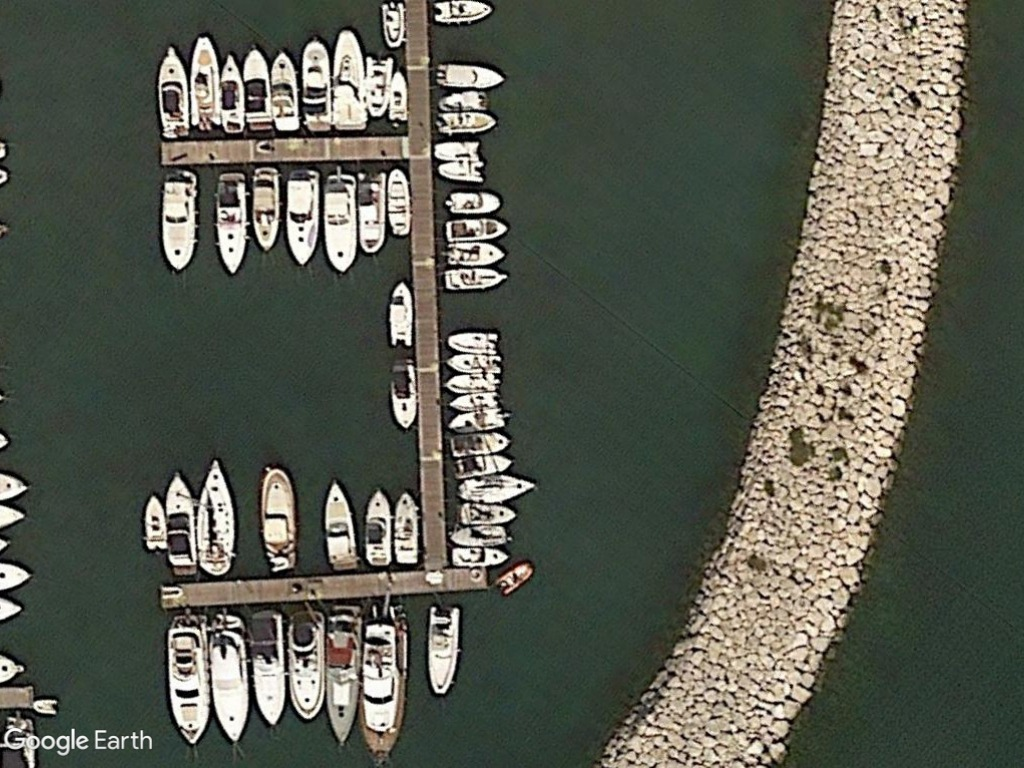boat: (359, 607, 411, 768), (204, 609, 252, 745), (164, 610, 211, 746), (322, 602, 362, 752), (192, 454, 237, 579), (245, 609, 288, 731), (258, 465, 302, 573), (285, 606, 325, 724), (317, 170, 359, 280), (326, 24, 366, 136), (156, 167, 198, 273), (212, 169, 252, 278), (280, 166, 321, 267), (422, 599, 464, 692), (298, 33, 334, 135), (246, 163, 284, 259), (184, 29, 218, 135), (165, 469, 198, 578), (320, 478, 358, 571), (155, 43, 191, 139), (354, 166, 388, 258), (268, 47, 298, 138), (244, 42, 272, 136), (216, 47, 244, 140), (361, 485, 392, 568), (453, 476, 536, 506), (392, 490, 422, 569), (387, 357, 419, 431), (360, 47, 391, 120), (383, 164, 411, 242), (432, 61, 506, 90), (442, 214, 512, 243), (387, 275, 414, 350), (444, 407, 506, 438), (433, 109, 498, 137), (385, 63, 412, 129), (141, 493, 169, 556), (441, 266, 511, 291), (448, 453, 516, 478), (447, 542, 512, 568), (441, 242, 509, 266), (492, 561, 536, 598), (446, 520, 508, 546), (377, 1, 409, 51), (453, 500, 517, 525), (430, 0, 496, 24), (441, 369, 501, 395), (444, 188, 503, 214), (443, 329, 501, 355), (433, 157, 487, 184), (442, 351, 505, 370), (444, 395, 501, 413)
